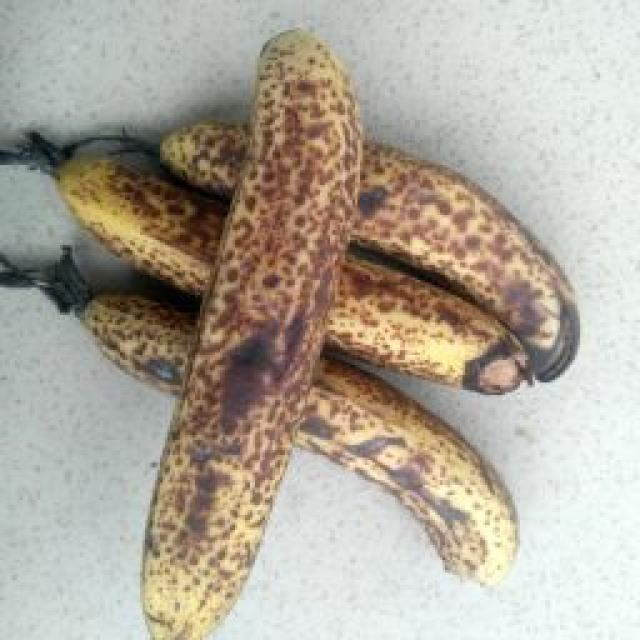banana: (46, 78, 552, 474)
